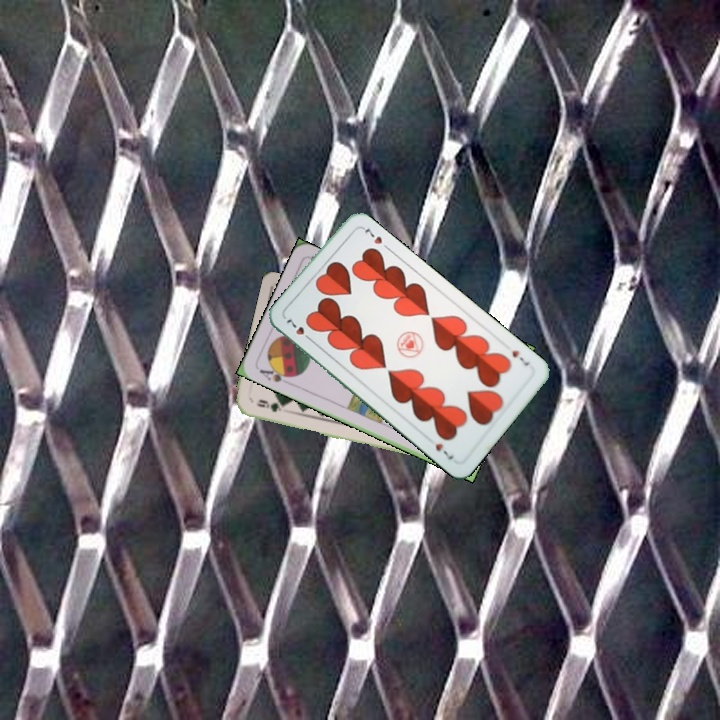G9: (253, 396, 289, 415)
H7: (282, 315, 315, 344), (508, 346, 531, 369)
SA: (256, 362, 295, 387)
